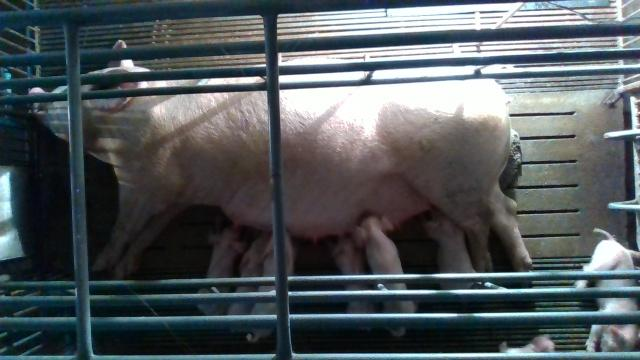piglet: (576, 227, 640, 351), (355, 213, 417, 337), (247, 229, 296, 343), (327, 233, 375, 330), (195, 222, 244, 314), (228, 230, 269, 331)
sow-sleep: (31, 39, 533, 289)
